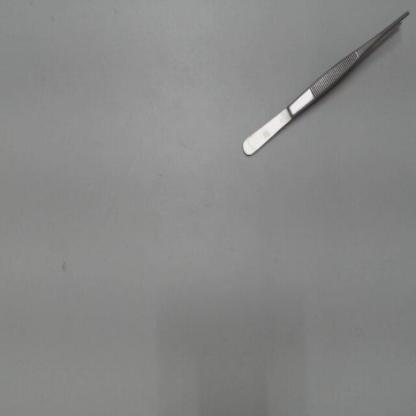Gillies Toothed Dissector: (229, 7, 413, 165)
